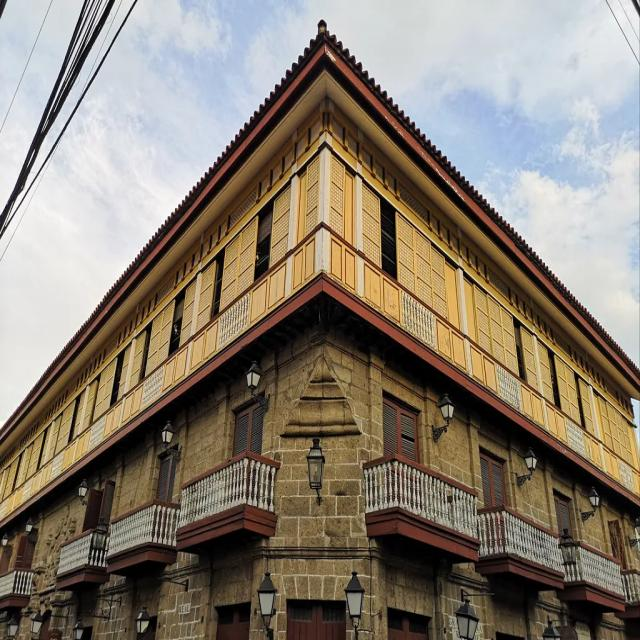Casa Manila: (5, 5, 639, 638)
